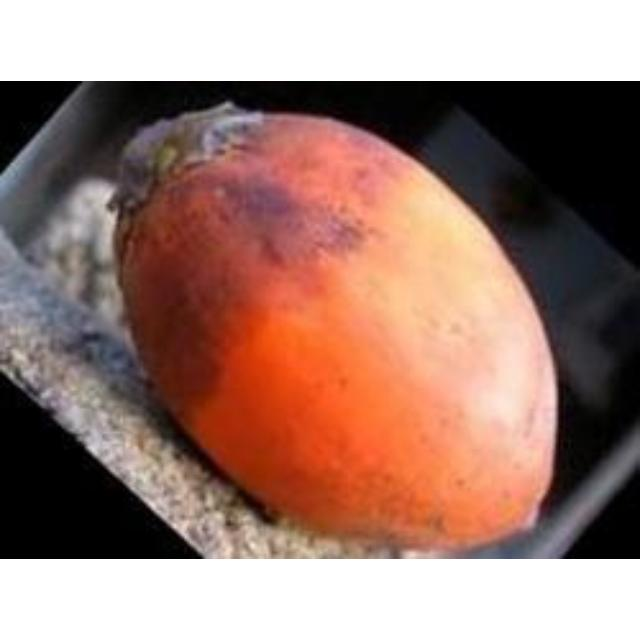good: (108, 104, 556, 557)
